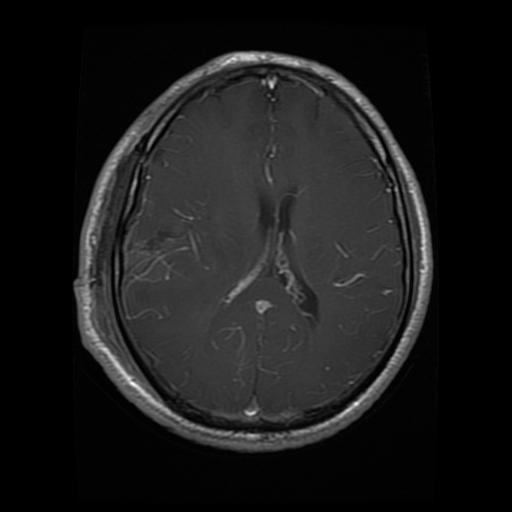Gliomia_tumour: (123, 204, 208, 283)
